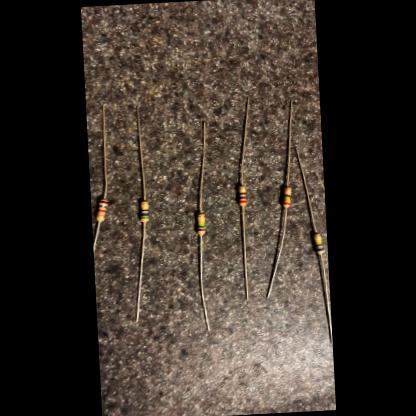resistor: (94, 198, 110, 222), (312, 232, 324, 255), (236, 184, 247, 206), (281, 186, 292, 208), (140, 200, 150, 223), (196, 213, 206, 234)
wire: (262, 209, 291, 298), (295, 145, 318, 233), (132, 223, 151, 322), (236, 96, 253, 184), (282, 100, 297, 186), (196, 122, 210, 212), (198, 235, 210, 332), (98, 106, 110, 197), (320, 256, 332, 344), (136, 109, 146, 200), (242, 206, 249, 300), (92, 222, 103, 256)
